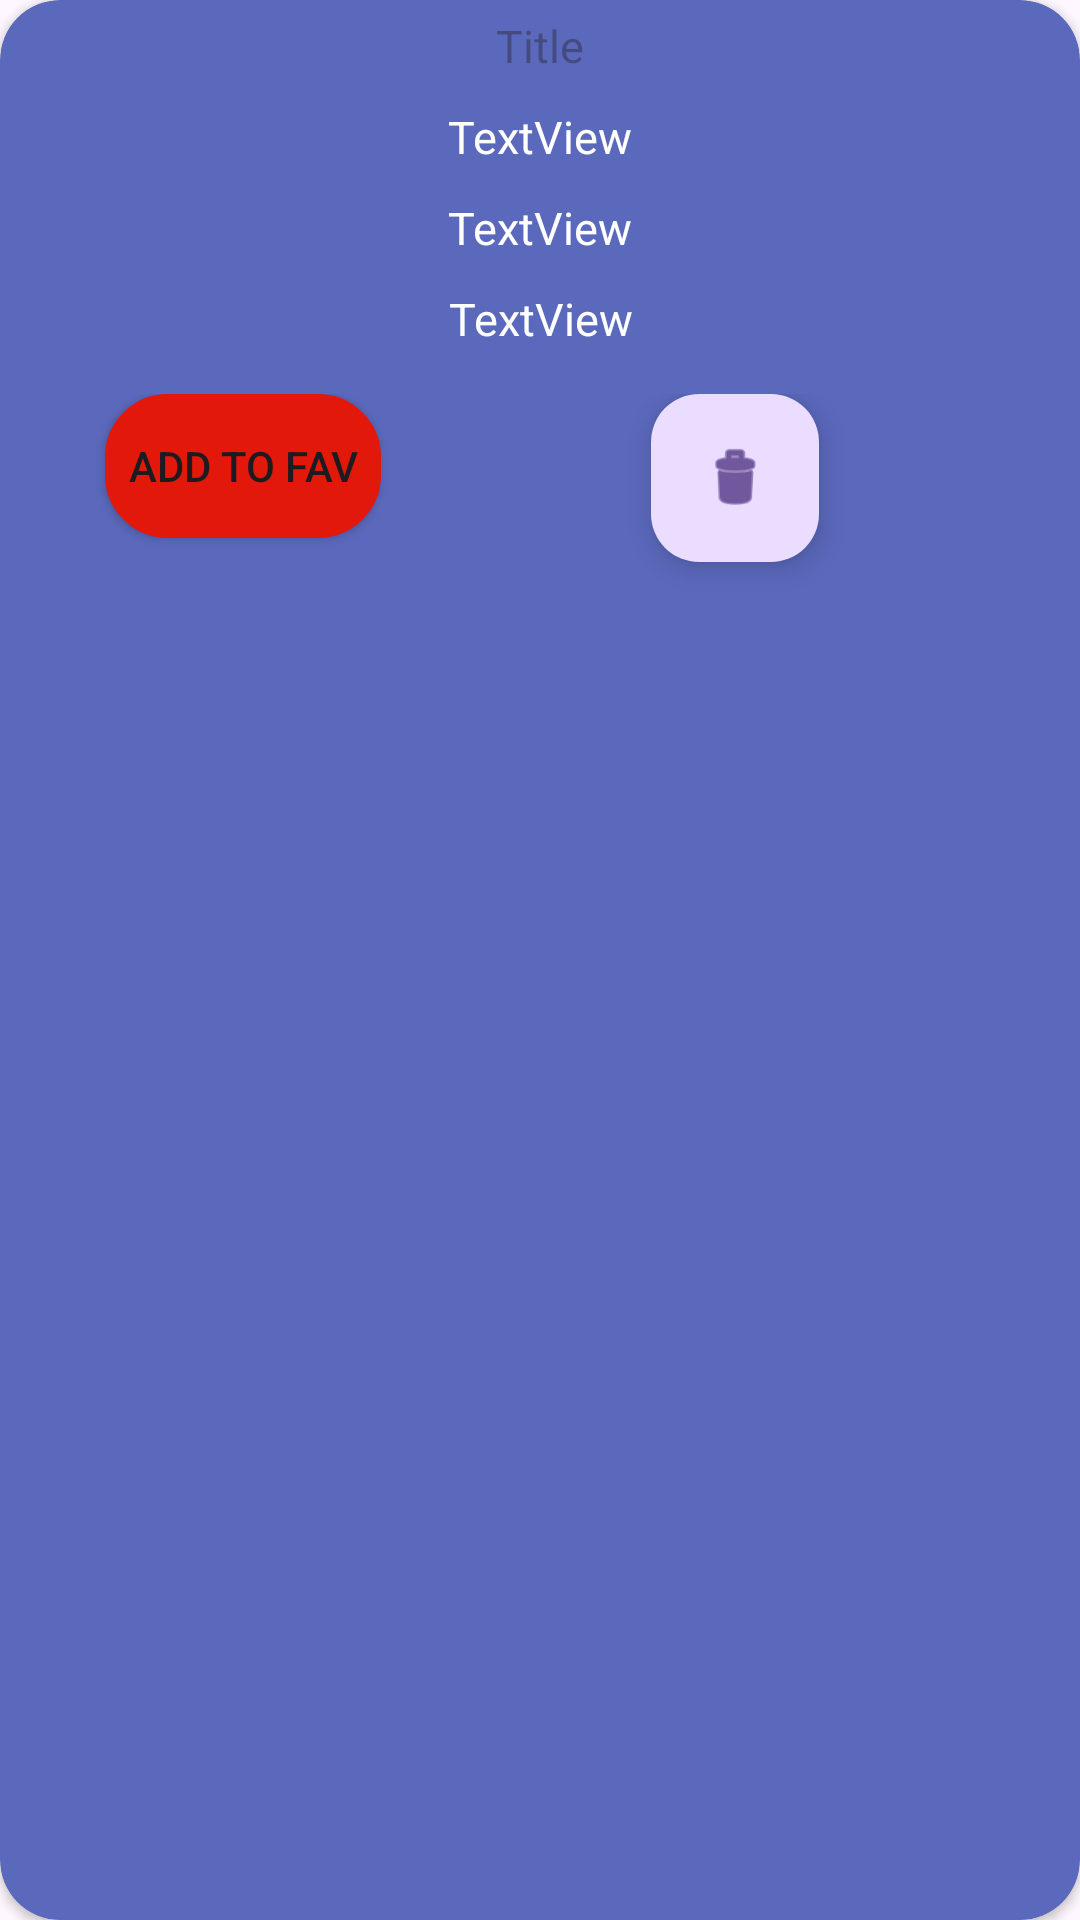

Where icons sit on this 1080 × 1920 app screen, as (x1, y1, x2, y2):
delete: (651, 394, 819, 562)
